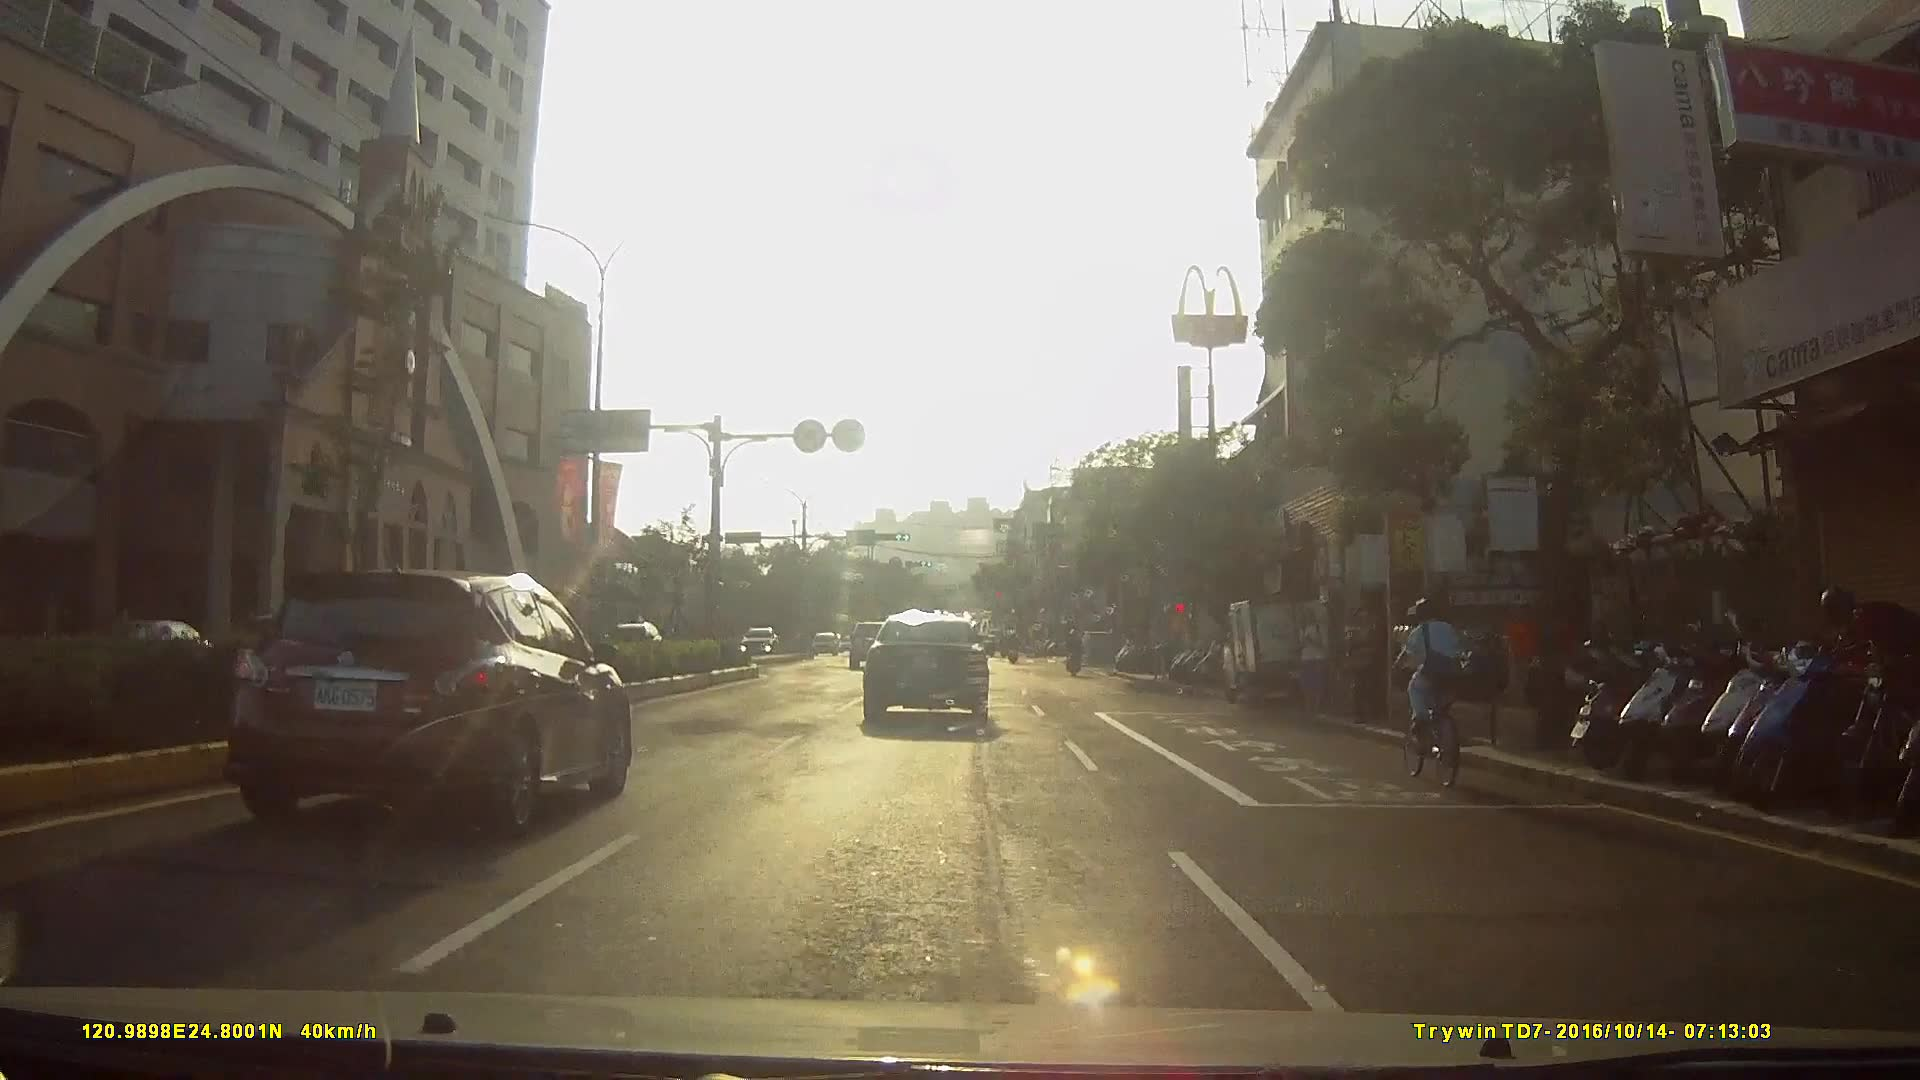pedestrian: (1398, 608, 1448, 736), (1293, 603, 1330, 720)
rider: (1383, 601, 1470, 796), (1065, 626, 1090, 682)
vehicle: (210, 563, 644, 834), (861, 610, 1007, 737), (1230, 592, 1362, 713), (845, 619, 904, 674), (735, 626, 783, 660), (805, 628, 835, 657)
